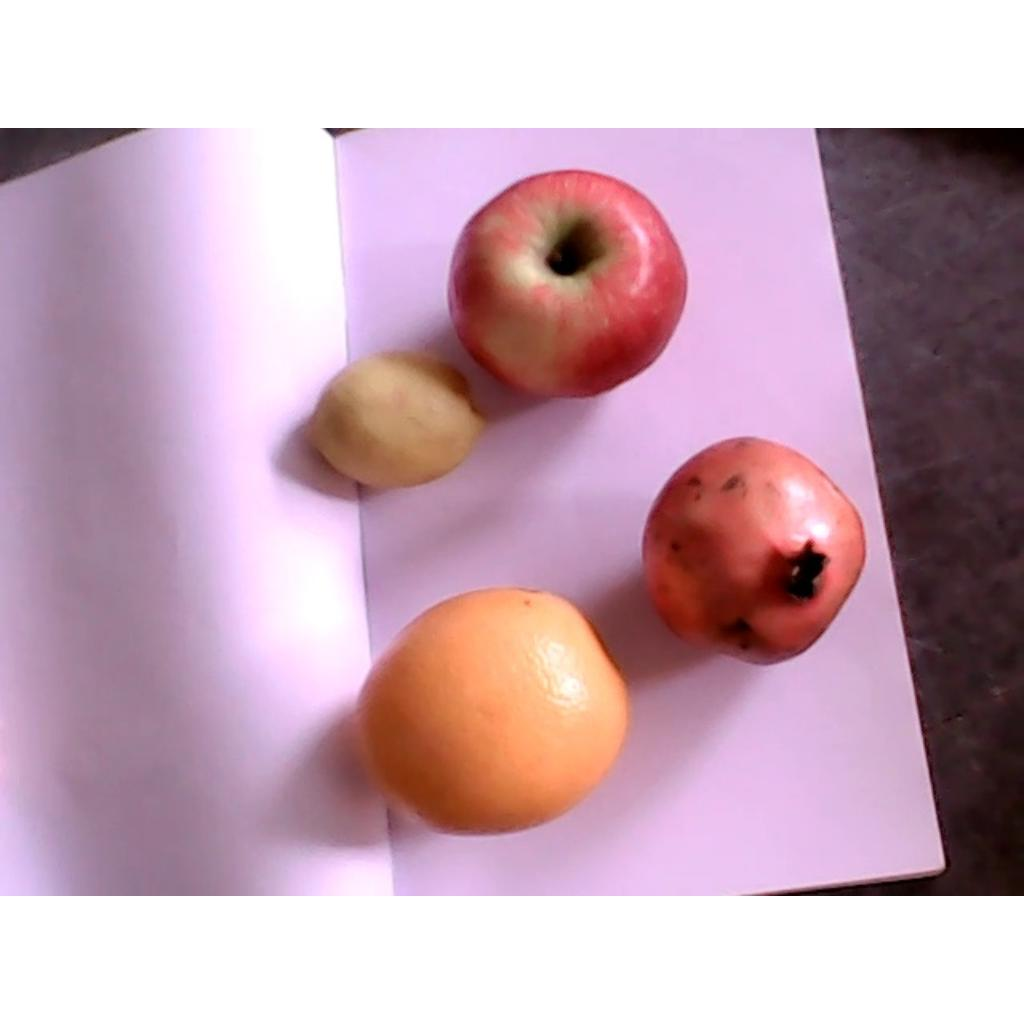apple: (445, 167, 691, 399)
lemon: (299, 349, 487, 487)
orange: (351, 589, 628, 835)
pomegranate: (641, 436, 865, 666)
